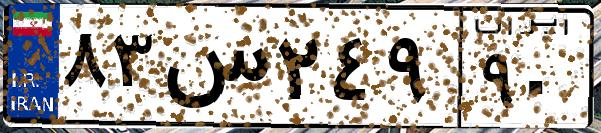0: (525, 38, 570, 115)
2: (270, 28, 330, 110)
3: (110, 28, 158, 98)
4: (330, 28, 385, 110)
8: (57, 26, 110, 100)
9: (385, 28, 445, 110), (475, 38, 525, 113)
س: (158, 20, 270, 120)
